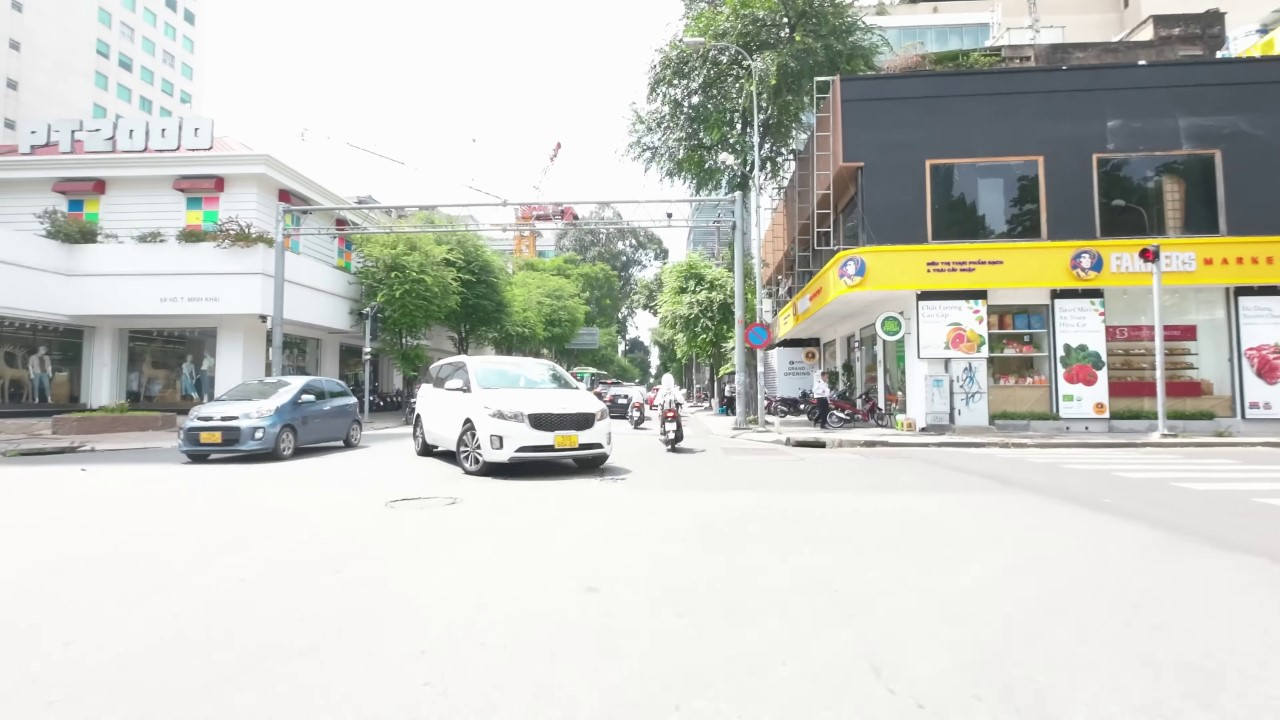cam_do_xe: (742, 321, 772, 351)
